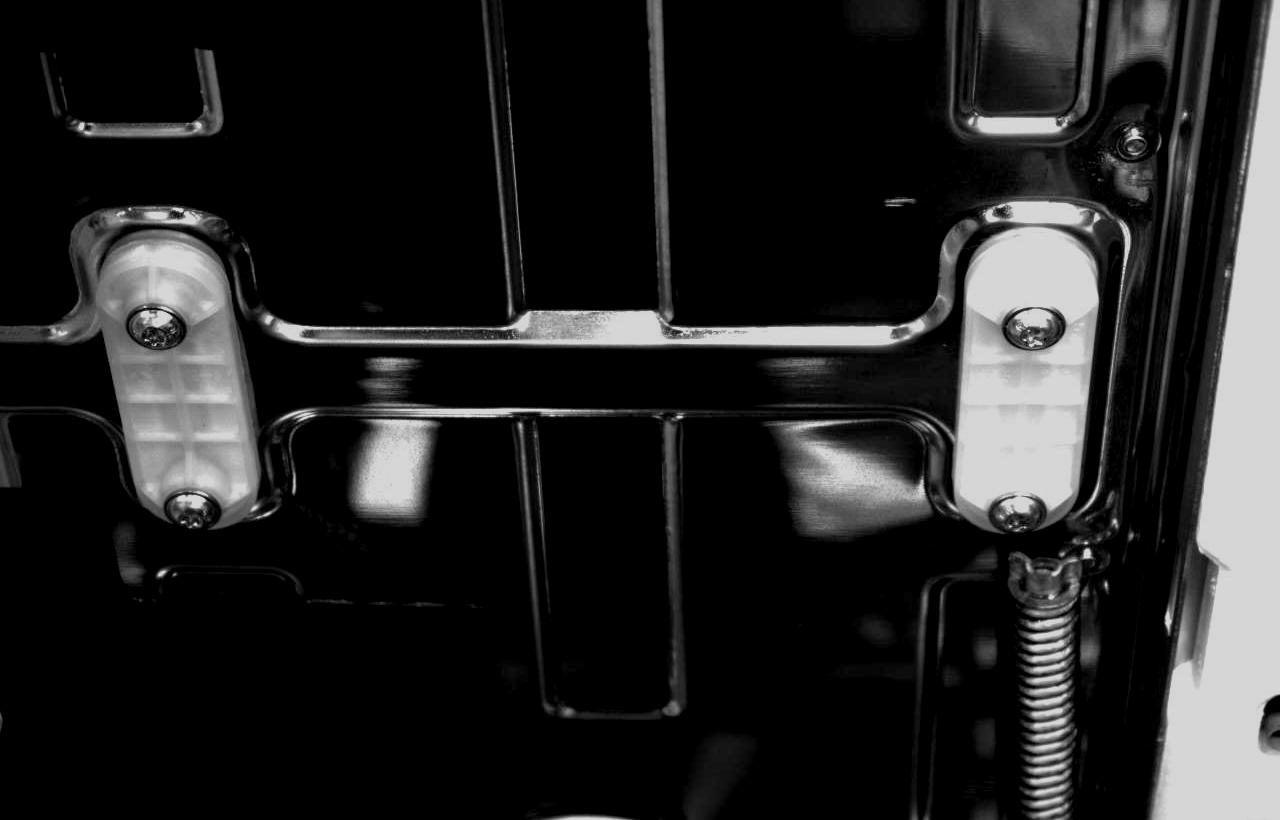vida-ok: (123, 294, 194, 361), (999, 294, 1066, 361), (159, 475, 224, 534), (987, 481, 1053, 539)
